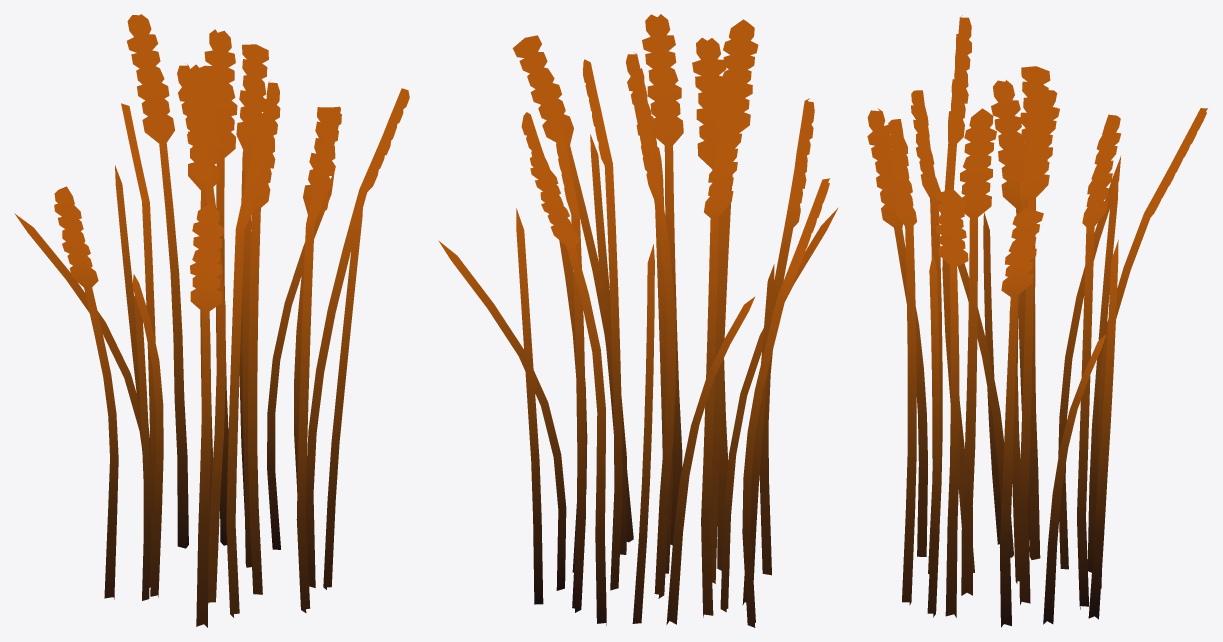
Rendered from Grass_Wheat.glb.
3 views of the same model, side by side, from view 1: azimuth 30°, elevation 25°; view 2: azimuth 150°, elevation 25°; view 3: azimuth 270°, elevation 25° (orthographic). The views are drawn at different scales.
Parts seen in each view (by area): view 1: Grass_Wheat; view 2: Grass_Wheat; view 3: Grass_Wheat.
Boxes of the visible parts, x1=… form: Grass_Wheat: x1=14, y1=14, x2=409, y2=627; Grass_Wheat: x1=438, y1=14, x2=838, y2=627; Grass_Wheat: x1=867, y1=15, x2=1207, y2=627.
Bounding box in the file's own units: 1.11 × 1.78 × 1.01.
Materials: 1 (1 with a texture image).
